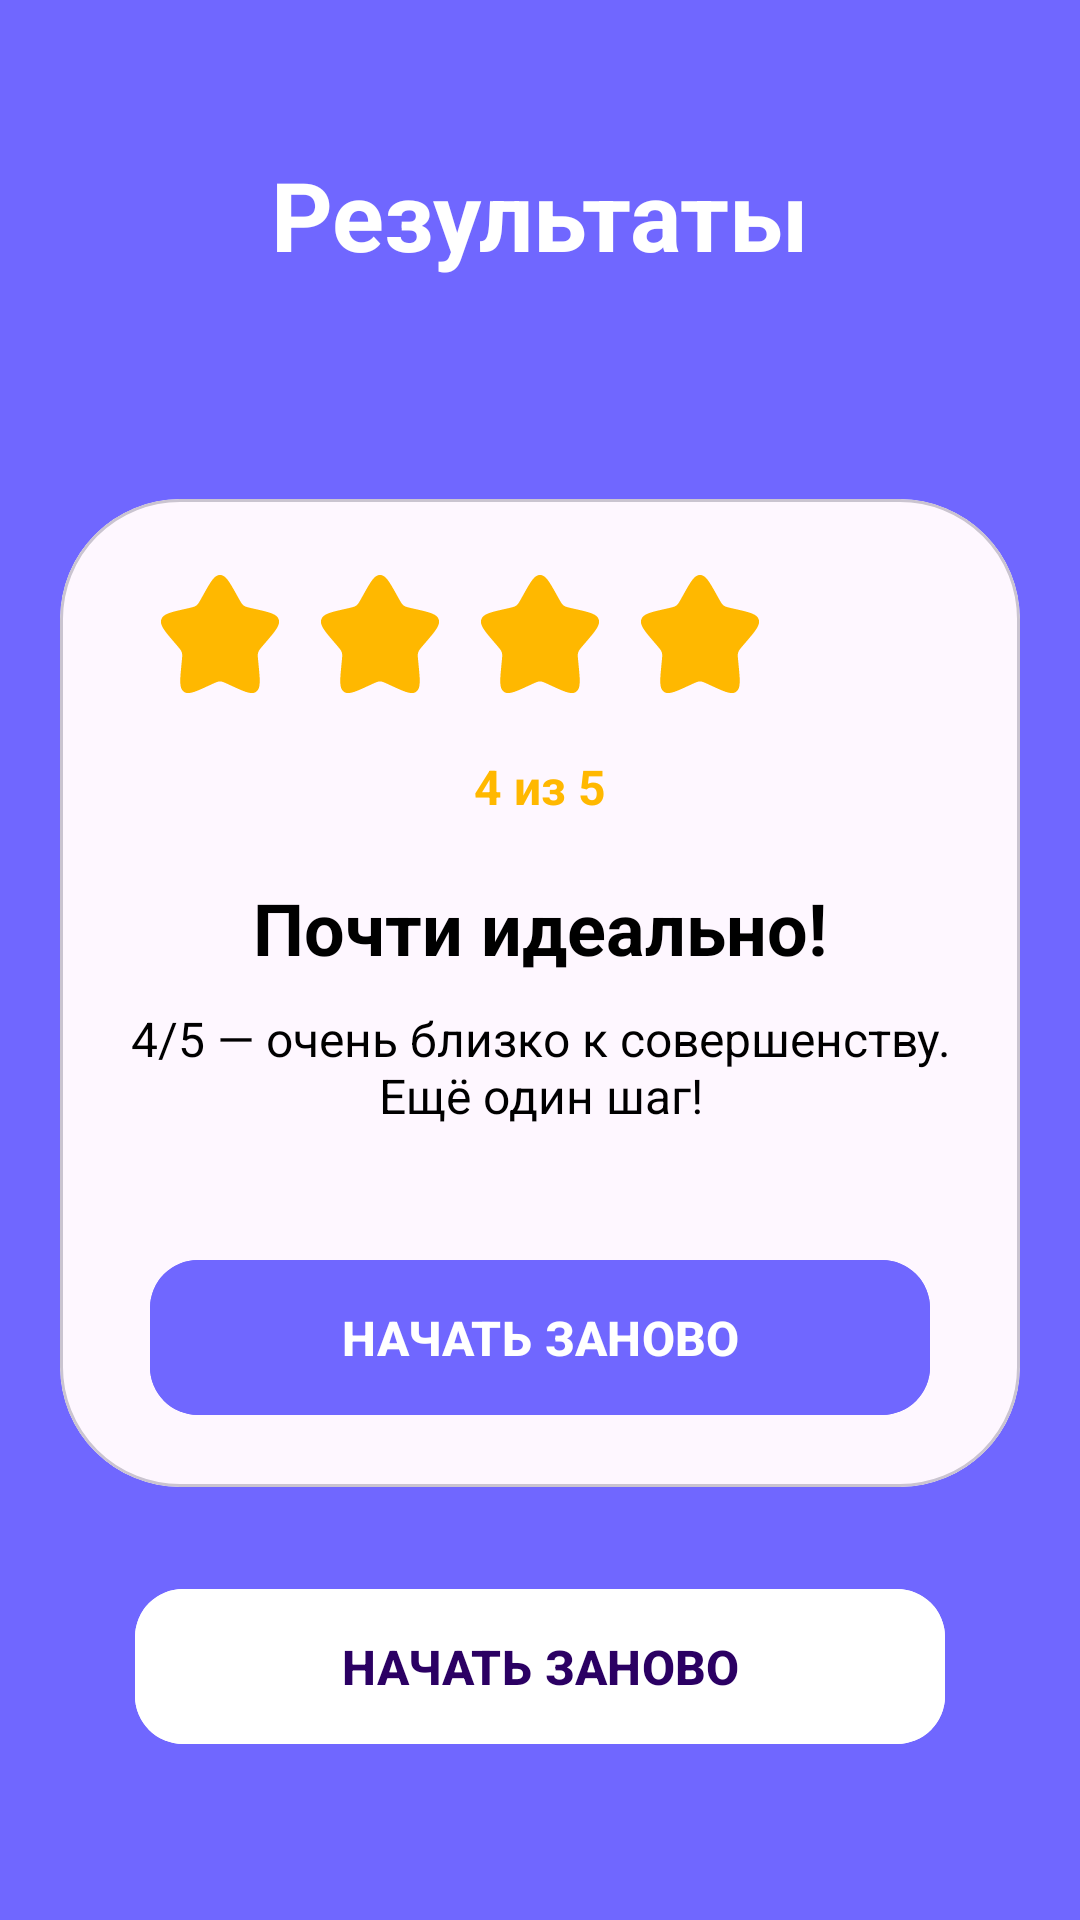

Icon bounding boxes for this 1080px×1920px phone screenshot, format (x1=x1, y1=y1, x2=x2, y2=y2):
star right: (x1=161, y1=575, x2=279, y2=693), (x1=321, y1=575, x2=439, y2=693), (x1=481, y1=575, x2=599, y2=693), (x1=641, y1=575, x2=759, y2=693)
